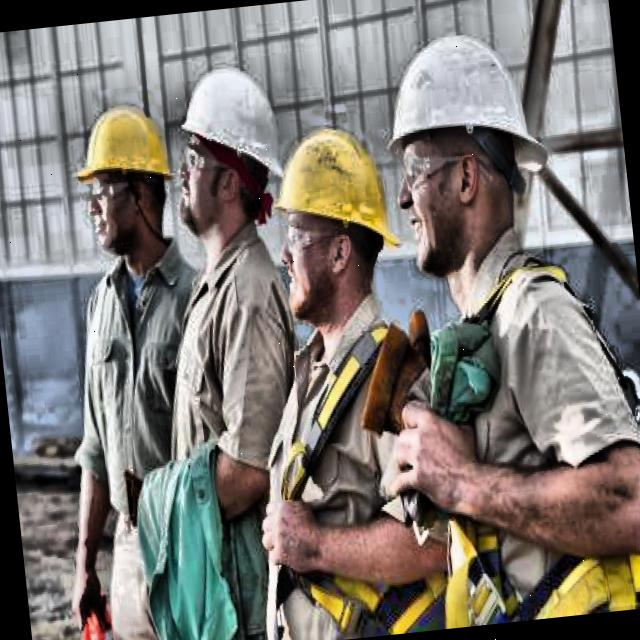helmet: (372, 2, 570, 275), (254, 108, 402, 324), (164, 42, 292, 244), (60, 83, 192, 274)
